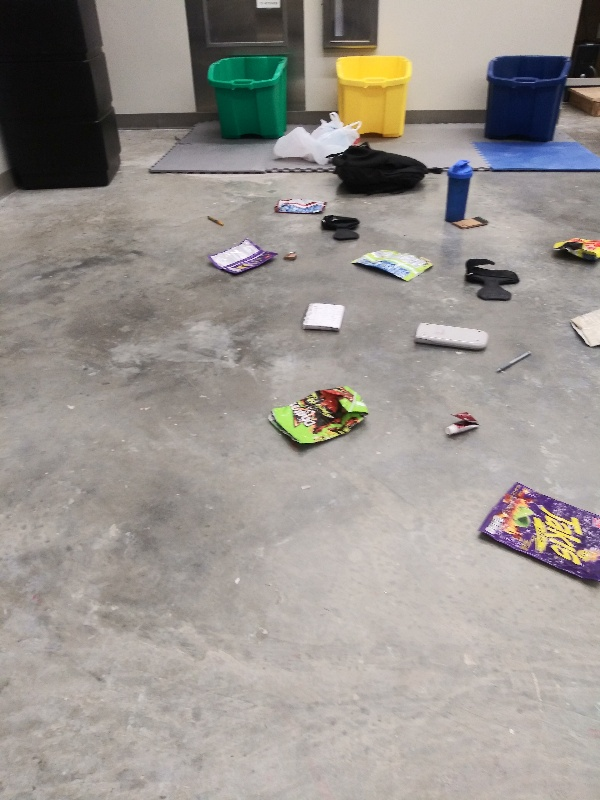bag: (475, 479, 600, 592), (262, 383, 376, 450), (345, 244, 436, 287), (202, 232, 281, 279), (546, 234, 600, 268), (270, 193, 333, 218), (566, 305, 600, 350)
